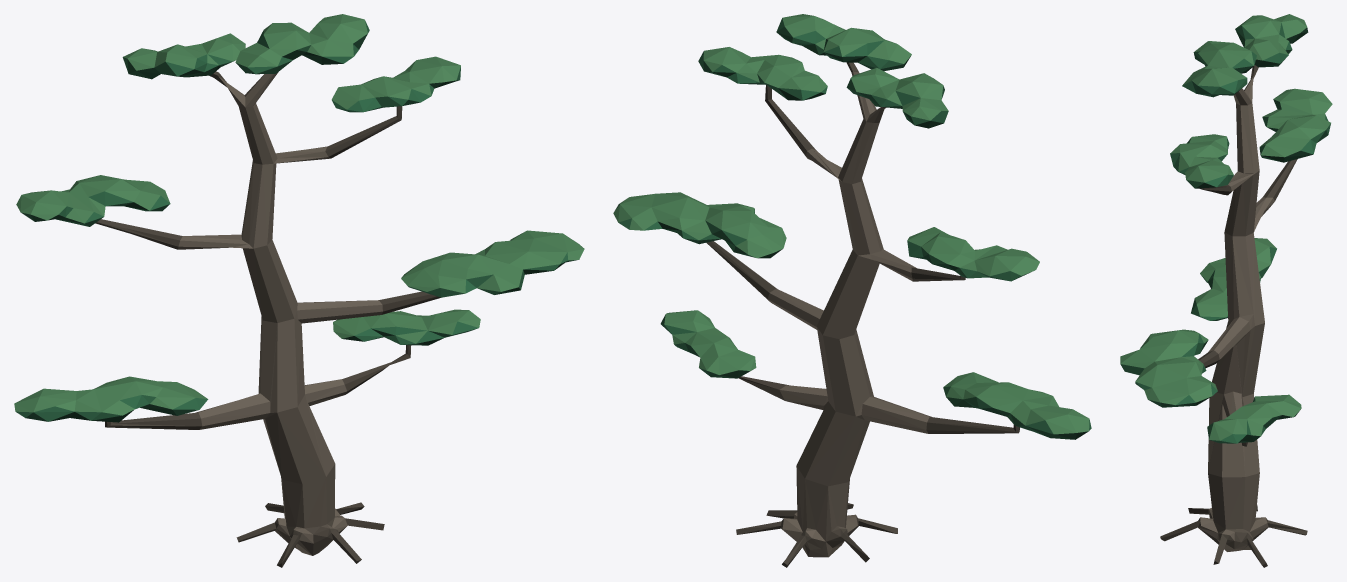
The model's file is ancient-pine-2171-lod2.glb.
The picture shows the model from 3 angles, left to right: view 1: azimuth 30°, elevation 25°; view 2: azimuth 150°, elevation 25°; view 3: azimuth 270°, elevation 25°; orthographic projection. The views are drawn at different scales.
Parts seen in each view (by area): view 1: n12.006, n8.006, n9.006, n11.006, n10.006; view 2: n12.006, n8.006, n11.006, n9.006, n10.006; view 3: n12.006, n8.006, n11.006, n9.006, n10.006.
Part boxes in pixels (bbox=[...]): n12.006: bbox=[14, 14, 584, 415]; n8.006: bbox=[178, 72, 382, 555]; n9.006: bbox=[95, 71, 440, 567]; n11.006: bbox=[16, 20, 568, 421]; n10.006: bbox=[21, 33, 576, 422]; n12.006: bbox=[613, 14, 1089, 434]; n8.006: bbox=[768, 71, 931, 557]; n11.006: bbox=[614, 18, 1091, 434]; n9.006: bbox=[706, 62, 1019, 567]; n10.006: bbox=[658, 33, 1088, 439]; n12.006: bbox=[1120, 14, 1332, 440]; n8.006: bbox=[1198, 67, 1274, 551]; n11.006: bbox=[1120, 23, 1330, 443]; n9.006: bbox=[1160, 65, 1307, 567]; n10.006: bbox=[1128, 27, 1327, 443].
Bounding box in the file's own units: 5.56 × 5.44 × 2.14.
